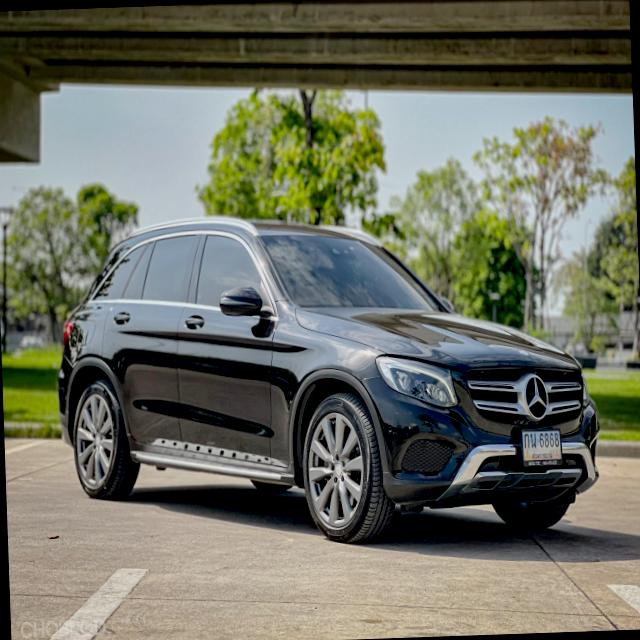license_plate: (518, 426, 567, 472)
